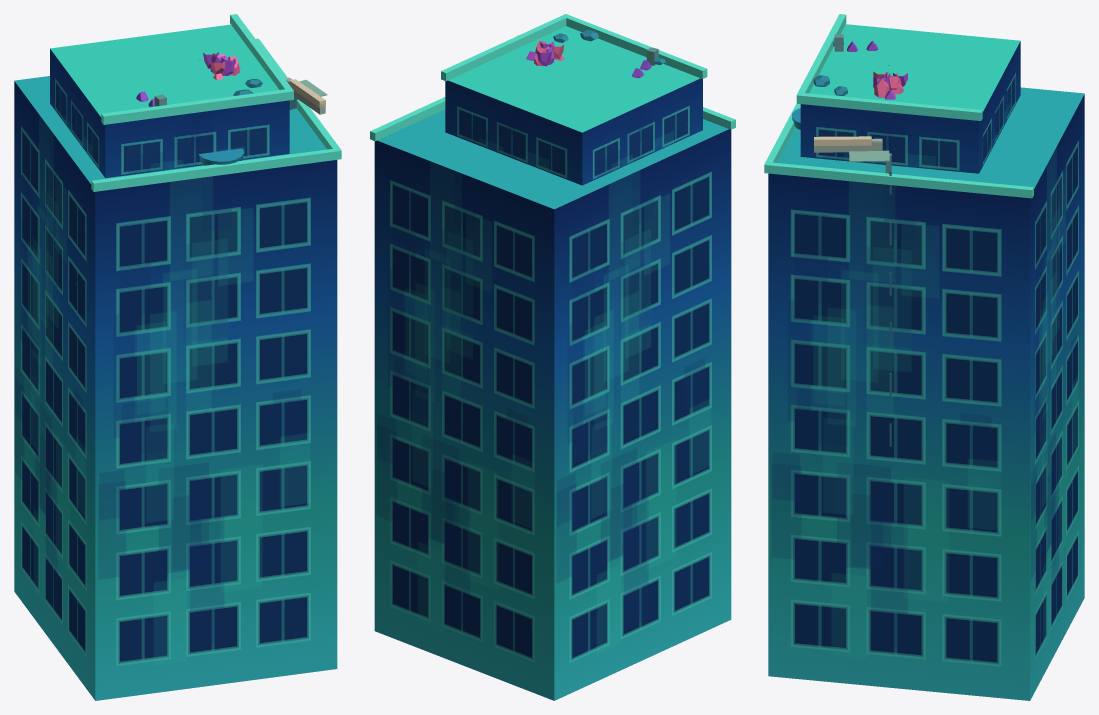
The model's file is base_solar_cabin_front_deck.glb.
3 renders of one model, left to right at view 1: azimuth 30°, elevation 25°; view 2: azimuth 150°, elevation 25°; view 3: azimuth 270°, elevation 25°, orthographic. The views are drawn at different scales.
Visible parts, largest first — view 1: 太阳能木屋-前侧平台-海下基座-01.001; view 2: 太阳能木屋-前侧平台-海下基座-01.001; view 3: 太阳能木屋-前侧平台-海下基座-01.001.
Part boxes in pixels (<box>): 太阳能木屋-前侧平台-海下基座-01.001: <box>14,14,341,700</box>; 太阳能木屋-前侧平台-海下基座-01.001: <box>370,14,735,700</box>; 太阳能木屋-前侧平台-海下基座-01.001: <box>764,14,1084,700</box>.
Bounding box in the file's own units: 15.64 × 31.92 × 16.13.
Materials: 4 (2 with a texture image).
